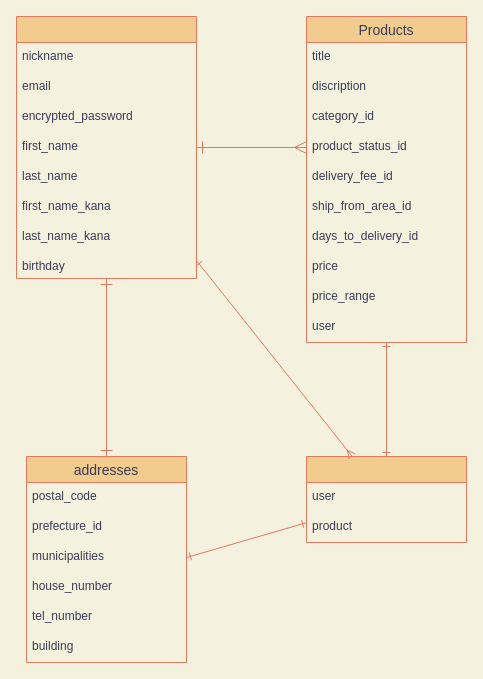
The diagram is 483 pixels wide and 679 high, and some of its shapes have lost their labels. Here are the shapes that lost their labels. From the top down, the box of each, then its label:
(16, 16, 196, 278): Users
(306, 456, 466, 542): buy_logs
